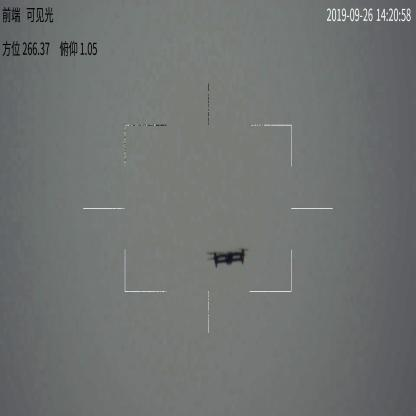uav: (207, 243, 252, 272)
